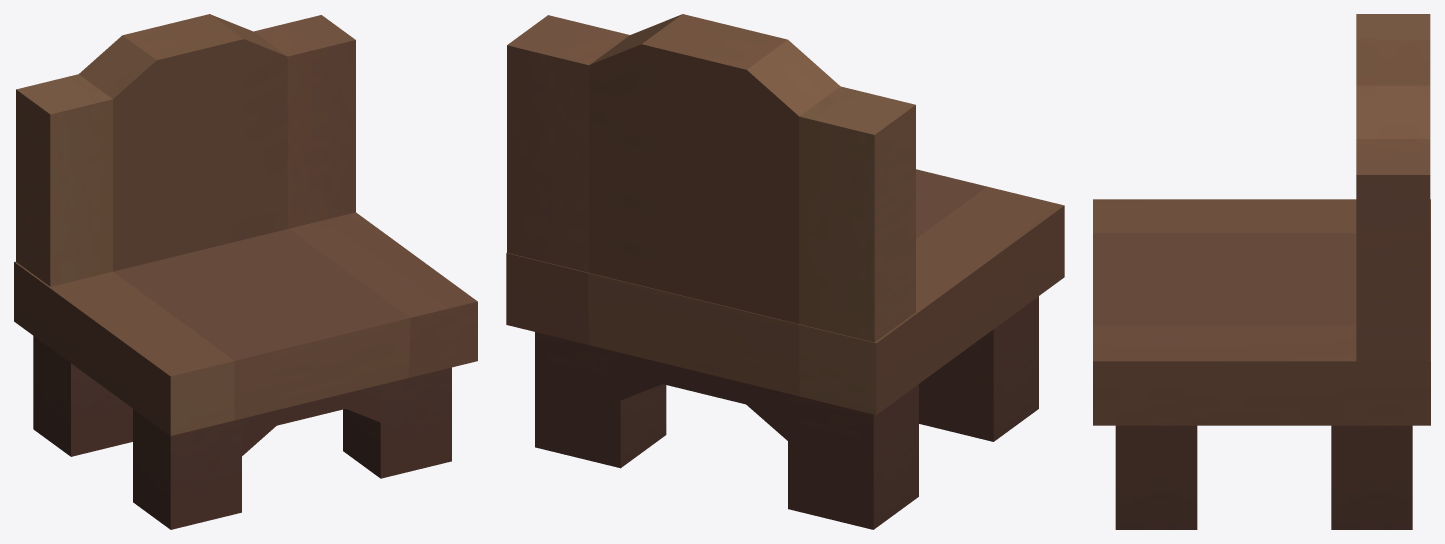
File: chair.fbx
3 views of the same model, side by side, from view 1: azimuth 30°, elevation 25°; view 2: azimuth 150°, elevation 25°; view 3: azimuth 270°, elevation 25° (orthographic). The views are drawn at different scales.
Parts seen in each view (by area): view 1: chair; view 2: chair; view 3: chair.
Part boxes in pixels (bbox=[...]): chair: bbox=[14, 14, 477, 529]; chair: bbox=[506, 14, 1064, 529]; chair: bbox=[1093, 14, 1430, 529].
Bounding box in the file's own units: 70 × 79.32 × 61.74.
